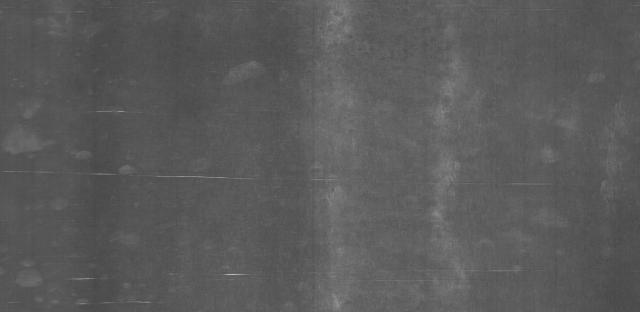waist_folding: (39, 121, 565, 312)
